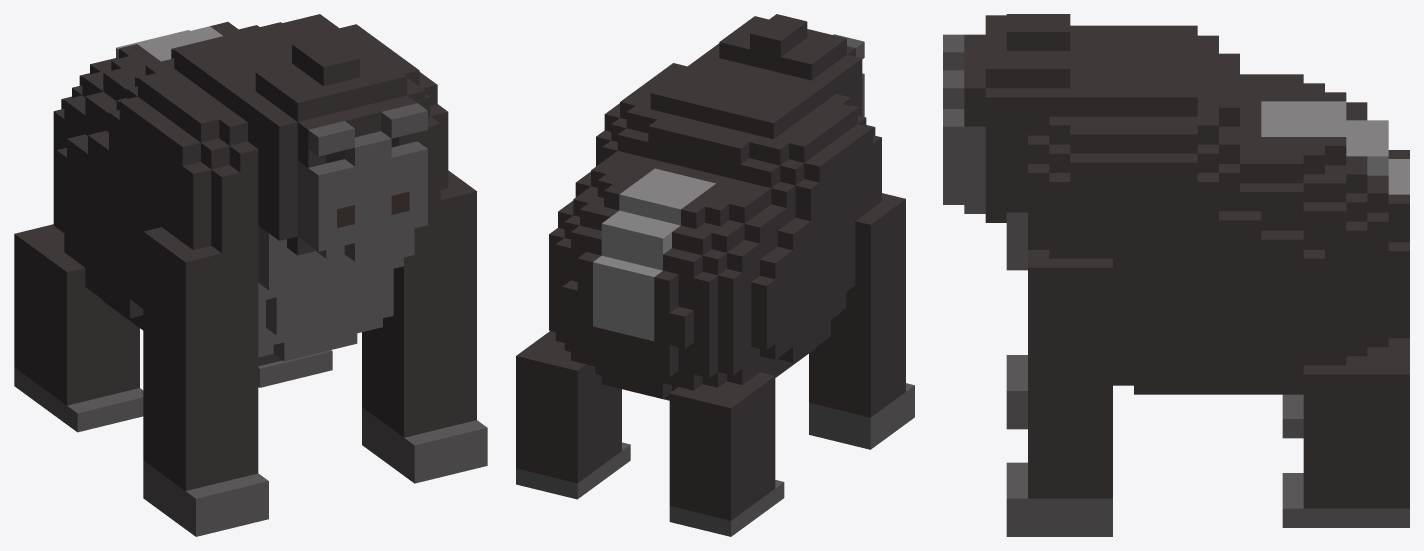
File: gorilla.glb
The picture shows the model from 3 angles, left to right: view 1: azimuth 30°, elevation 25°; view 2: azimuth 150°, elevation 25°; view 3: azimuth 270°, elevation 25°; orthographic projection. The views are drawn at different scales.
Visible parts, largest first — view 1: gorilla; view 2: gorilla; view 3: gorilla.
Boxes of the visible parts, box(x1,y1,x2,y2) form: gorilla: box(14, 14, 487, 536); gorilla: box(516, 14, 914, 536); gorilla: box(943, 14, 1409, 536).
Size of the model in its own units: 1.6 by 2.3 by 2.2.
Materials: 1 (1 with a texture image).
